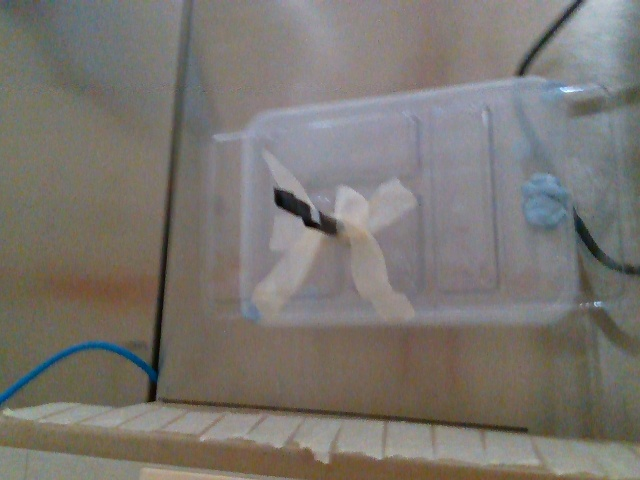test_strip: (268, 185, 320, 223)
